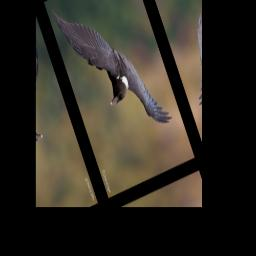Crow: (49, 0, 174, 156)
